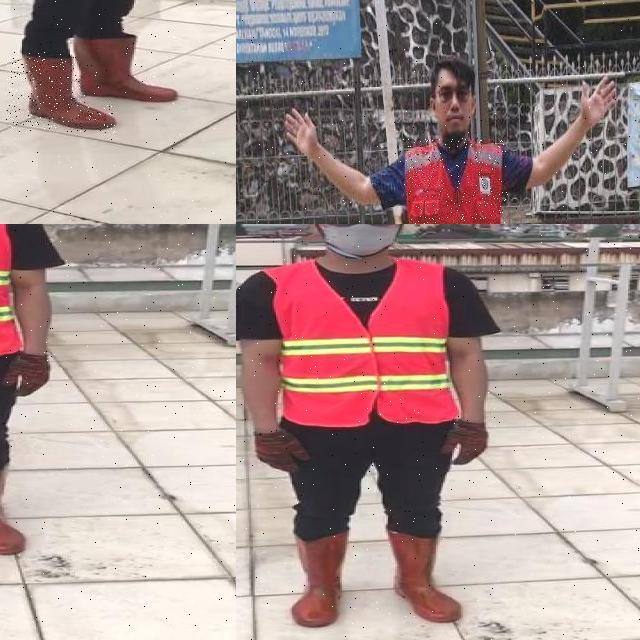boots: (6, 52, 116, 133), (80, 34, 186, 106), (384, 527, 462, 622), (286, 533, 346, 626), (0, 462, 25, 555)
vest: (264, 265, 456, 426), (403, 138, 508, 224)
